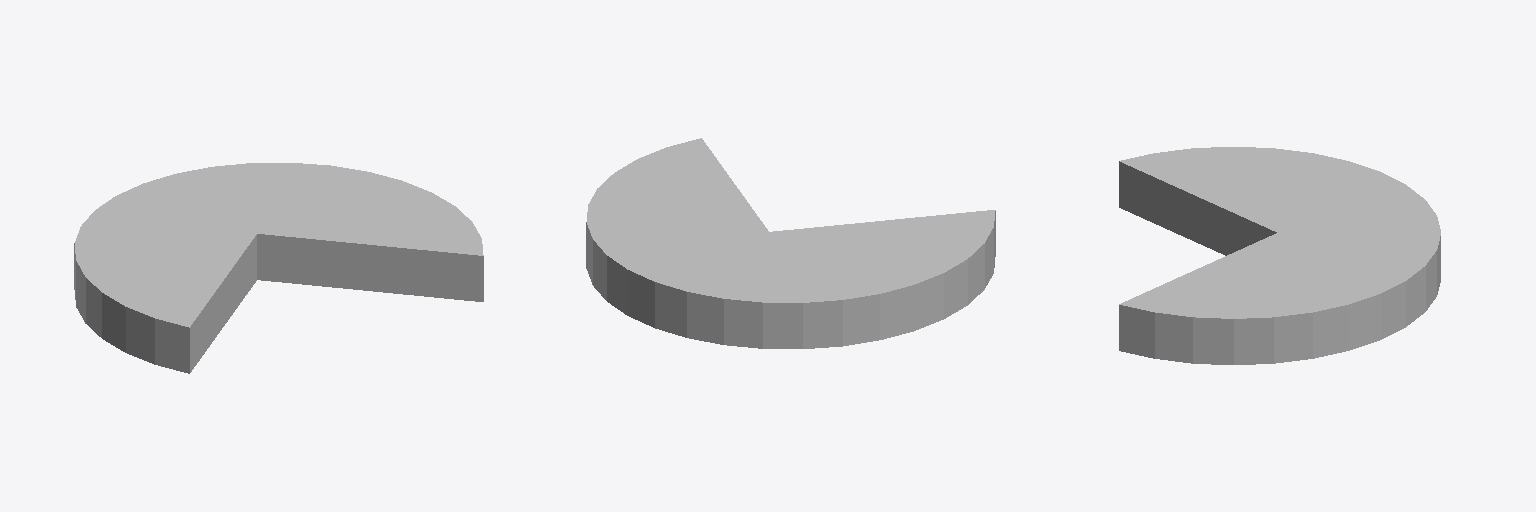
The model's file is enemy_fighter.obj.
The picture shows the model from 3 angles: view 1: azimuth 30°, elevation 25°; view 2: azimuth 150°, elevation 25°; view 3: azimuth 270°, elevation 25°; orthographic projection.
Visible parts, largest first — view 1: Circle; view 2: Circle; view 3: Circle.
Boxes of the visible parts, box(x1,y1,x2,y2) form: Circle: box(74, 163, 483, 373); Circle: box(586, 138, 995, 348); Circle: box(1119, 147, 1440, 364).
Bounding box in the file's own units: 1.17 × 0.147 × 0.927.